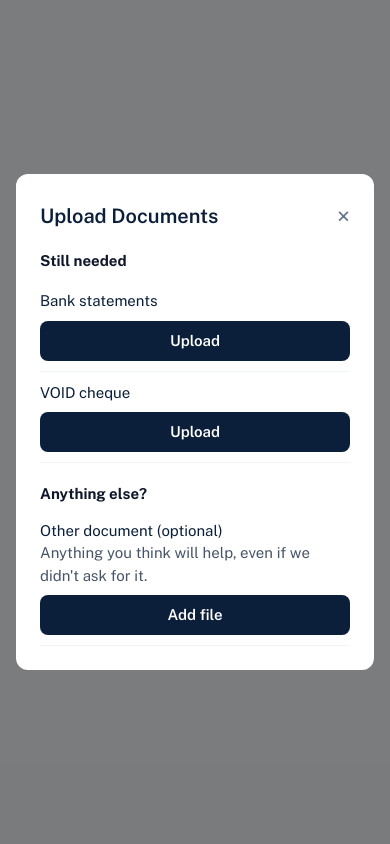
DocPicker duplicate upload › the file is already under this item: a friendly note, the item is done, nothing reported
Click the button "Upload" below "Bank statements".
click(195, 341)  # box [40,321,350,361]
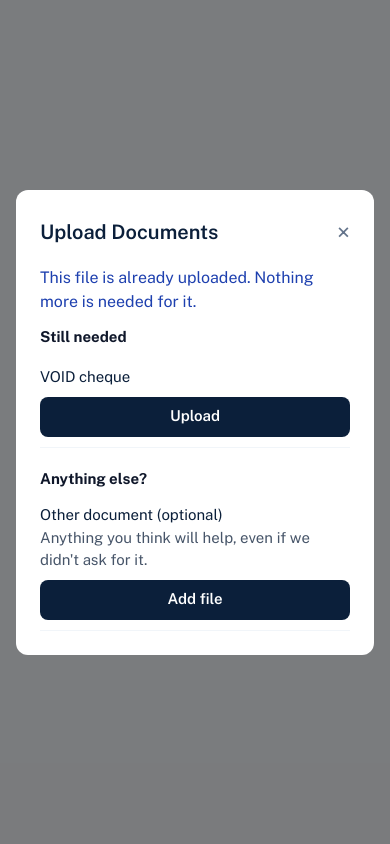
expect the text "VOID cheque" is shown: met, box [40,368,130,385]
expect the text "This file is already uploaded. Nothing more is needed for it." is shown: met, box [40,266,350,314]
expect the text "Bank statements" is gone: met
